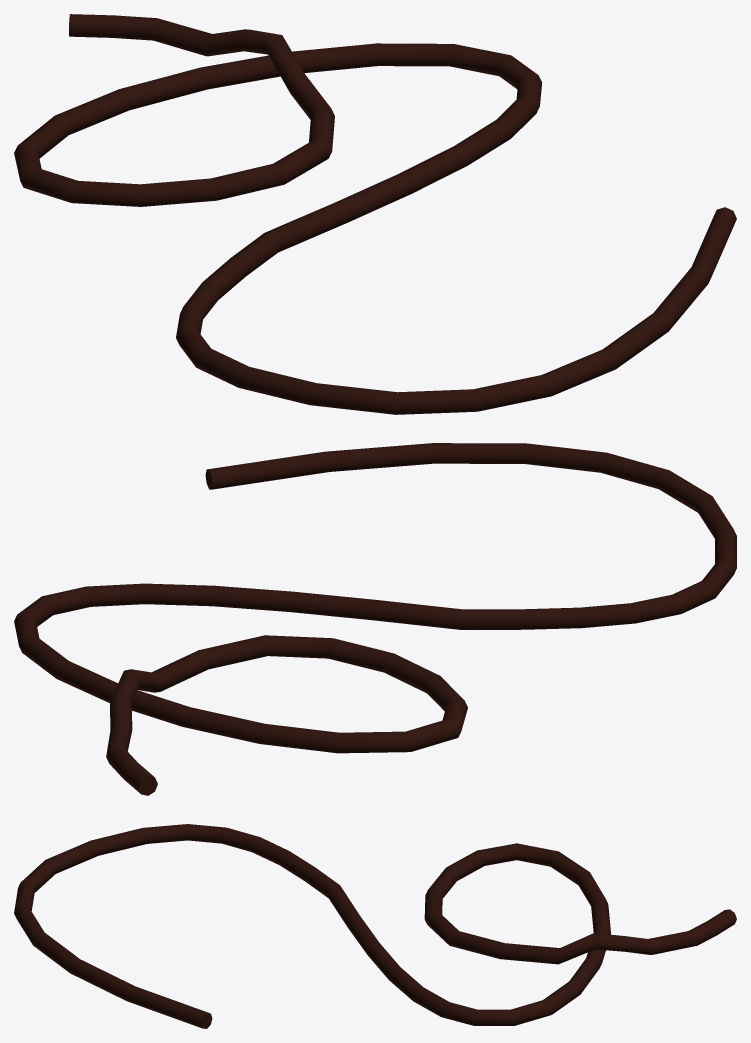
File: BalancoirePart4.fbx
3 views of the same model, one above another, from view 1: azimuth 30°, elevation 25°; view 2: azimuth 150°, elevation 25°; view 3: azimuth 270°, elevation 25° (orthographic). The views are drawn at different scales.
Visible parts, largest first — view 1: BalancoirePart4; view 2: BalancoirePart4; view 3: BalancoirePart4.
Boxes of the visible parts, x1,y1,x2,y2 form: BalancoirePart4: [14, 14, 736, 414]; BalancoirePart4: [14, 443, 736, 795]; BalancoirePart4: [14, 824, 736, 1028].
Bounding box in the file's own units: 53.15 × 3.97 × 83.11.
